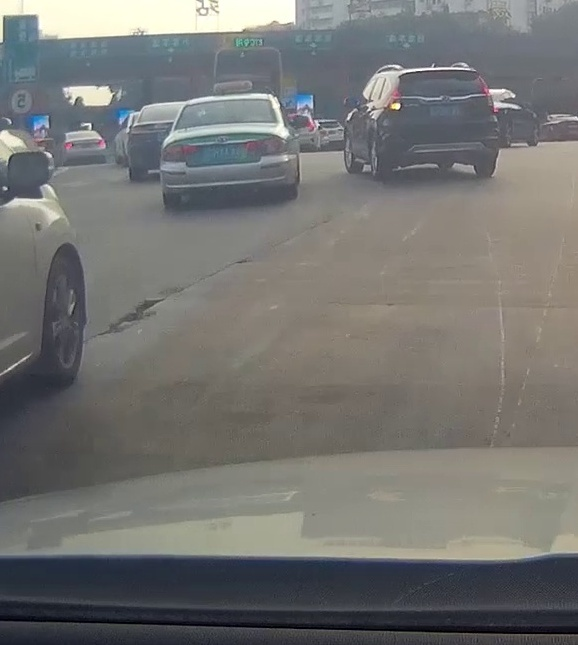L_light: (161, 142, 200, 161), (383, 87, 402, 110)
R_light: (245, 136, 287, 153), (483, 86, 494, 106)
T_light: (215, 101, 234, 105), (428, 71, 447, 74)
day-left: (378, 66, 499, 179)
day-no: (160, 93, 292, 206)
